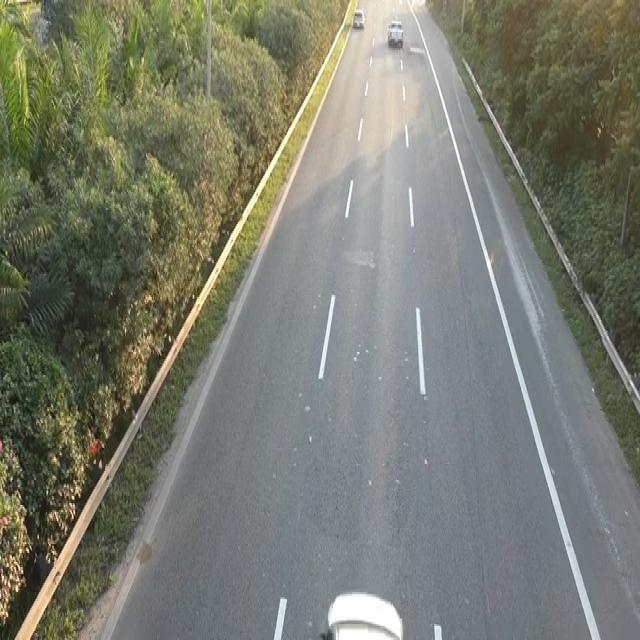bus: (351, 7, 365, 29)
car: (385, 16, 407, 53)
